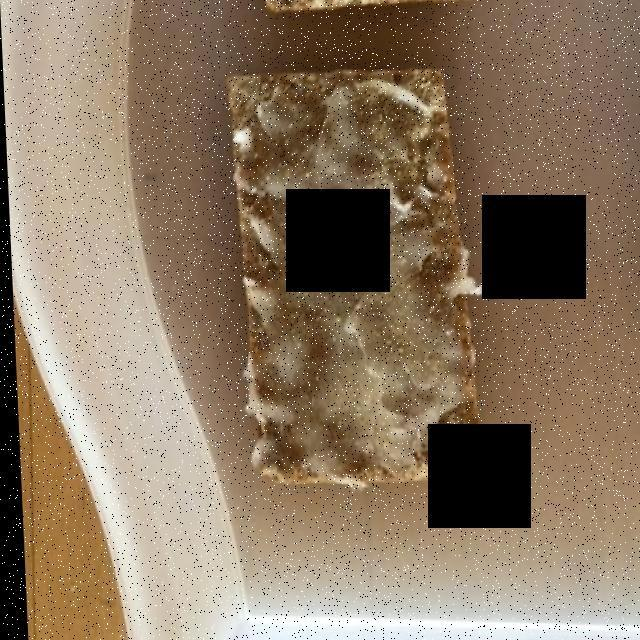rusk-wholemeal: (235, 72, 474, 487)
